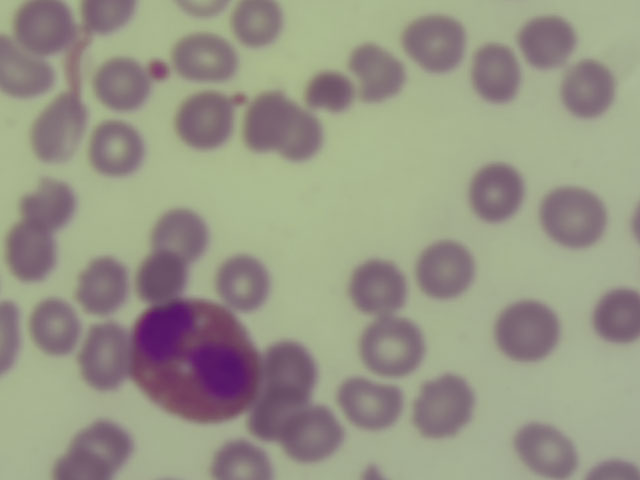Platelets: (146, 54, 173, 85), (362, 460, 386, 480), (232, 89, 249, 110)
RBC: (518, 423, 574, 480), (418, 241, 474, 297), (349, 258, 405, 314), (365, 318, 421, 374), (415, 378, 471, 434), (342, 376, 398, 432), (286, 409, 342, 465), (248, 388, 304, 444), (262, 338, 318, 394), (500, 301, 556, 357), (544, 191, 600, 247), (468, 163, 524, 219), (562, 61, 618, 117), (521, 11, 577, 67), (467, 45, 523, 101), (407, 16, 463, 72), (350, 47, 406, 103), (299, 66, 355, 122), (271, 115, 327, 171), (241, 90, 297, 146), (76, 415, 132, 471), (77, 327, 133, 383), (217, 253, 273, 309), (154, 205, 210, 261), (75, 259, 131, 315), (26, 297, 82, 353), (4, 225, 60, 281), (19, 176, 75, 232), (176, 94, 232, 150), (176, 27, 232, 83), (89, 121, 145, 177), (93, 54, 149, 110), (28, 101, 84, 157), (1, 44, 56, 100), (16, 1, 72, 56), (203, 443, 277, 480), (596, 285, 640, 344), (230, 1, 285, 46), (138, 252, 187, 298), (49, 450, 118, 480), (79, 1, 143, 32), (1, 296, 23, 375), (584, 451, 640, 480)
WBC: (136, 298, 256, 416)
